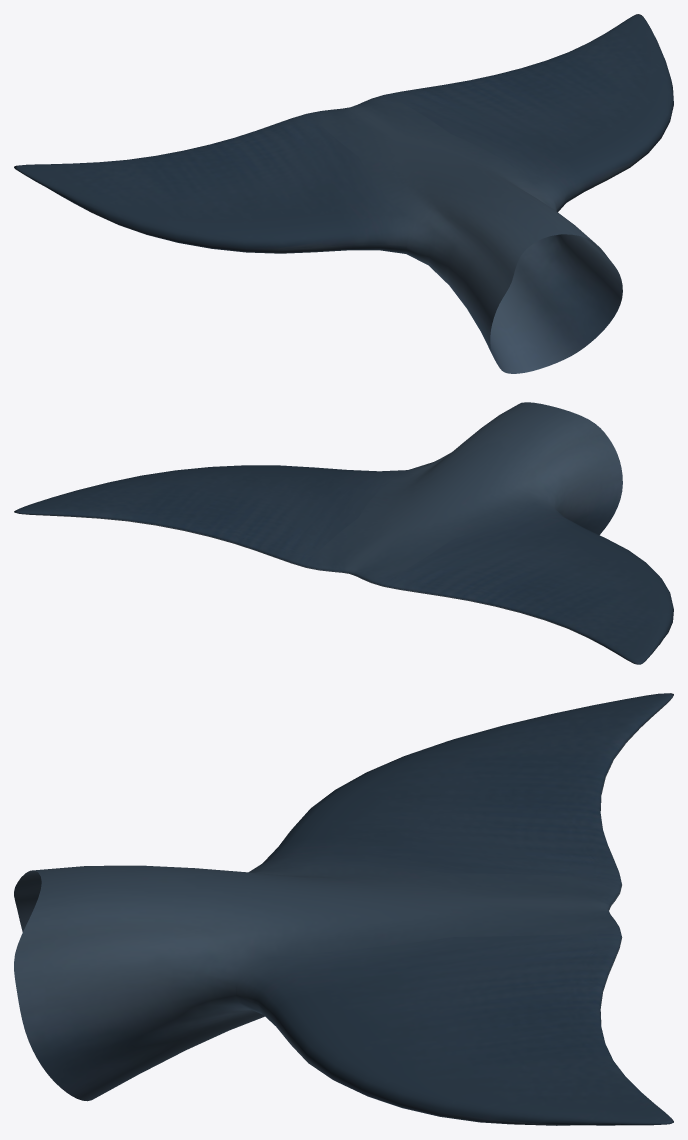
Rendered from colaDelfin.obj.
3 renders of one model, top to bottom at view 1: azimuth 30°, elevation 25°; view 2: azimuth 150°, elevation 25°; view 3: azimuth 270°, elevation 25°, orthographic. The views are drawn at different scales.
Parts seen in each view (by area): view 1: dolphin; view 2: dolphin; view 3: dolphin.
Boxes of the visible parts, left/top/right/bottom form: dolphin: left=14, top=14, right=673, bottom=373; dolphin: left=14, top=402, right=673, bottom=664; dolphin: left=14, top=693, right=673, bottom=1125.
Bounding box in the file's own units: 82.25 × 19.11 × 53.2.
Materials: 1 (1 with a texture image).
